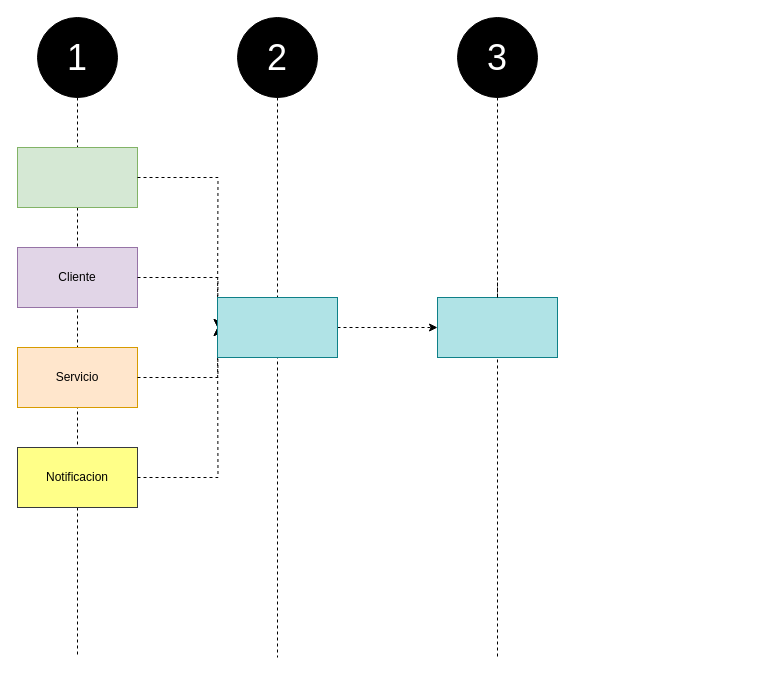
This 765x685 diagram has some shape labels left out. The shapes that lost their labels are listed below. From the top down, each one's centre as x and y in pixels, then its label:
At point 77,177: "Sucursal".
At point 277,327: "Reserva".
At point 497,327: "Consentimiento".
